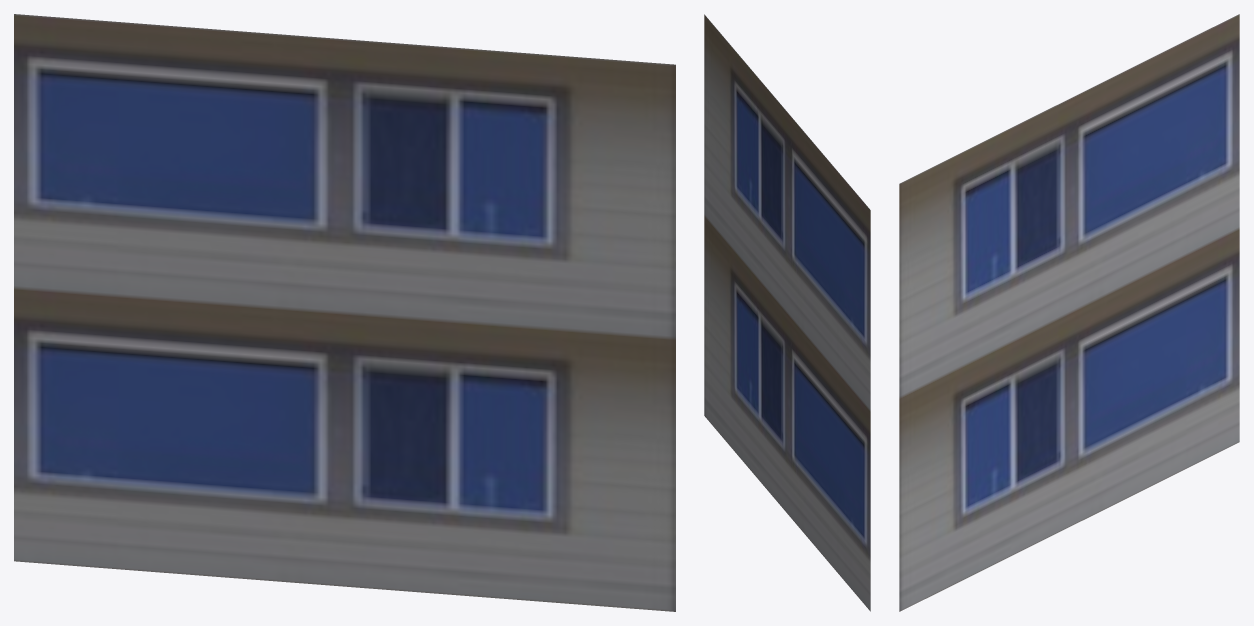
File: ResTex__1396.fbx
3 views of the same model, side by side, from view 1: azimuth 30°, elevation 25°; view 2: azimuth 150°, elevation 25°; view 3: azimuth 270°, elevation 25° (orthographic). The views are drawn at different scales.
Parts seen in each view (by area): view 1: CityEngineMaterial_23_m; view 2: CityEngineMaterial_23_m; view 3: CityEngineMaterial_23_m.
Boxes of the visible parts, x1,y1,x2,y2 form: CityEngineMaterial_23_m: (14, 14, 675, 611); CityEngineMaterial_23_m: (704, 14, 870, 611); CityEngineMaterial_23_m: (899, 14, 1239, 611).
Size of the model in its own units: 5.1 by 6 by 4.32.
Materials: 1 (1 with a texture image).
